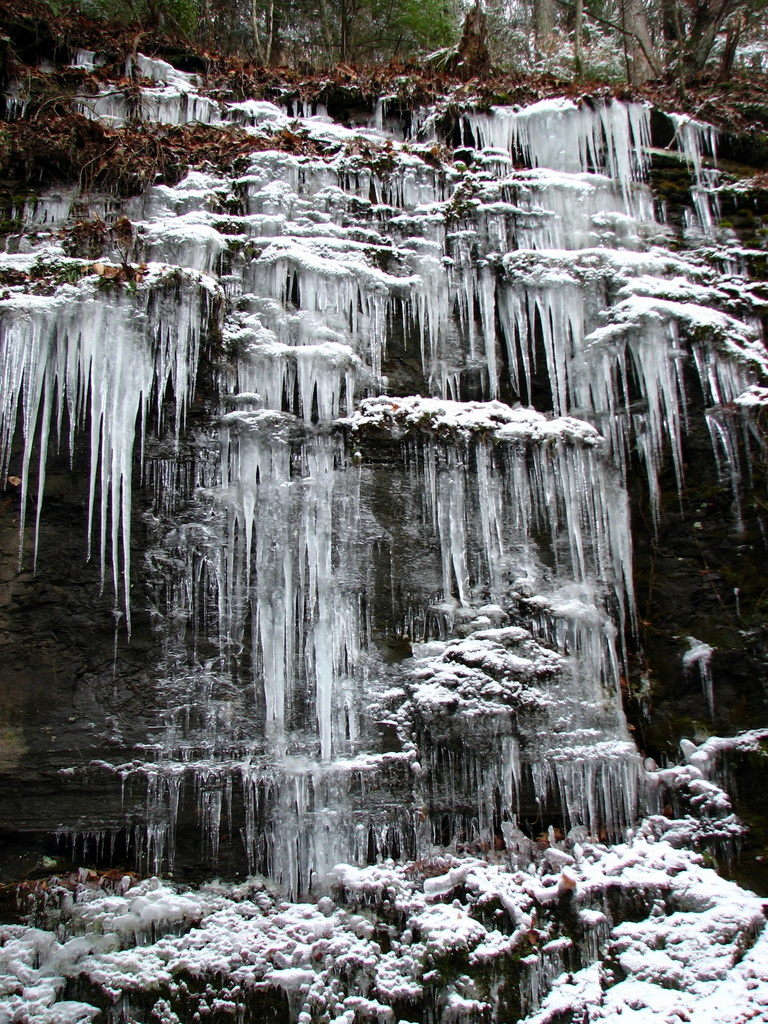Tree: (39, 0, 768, 89)
